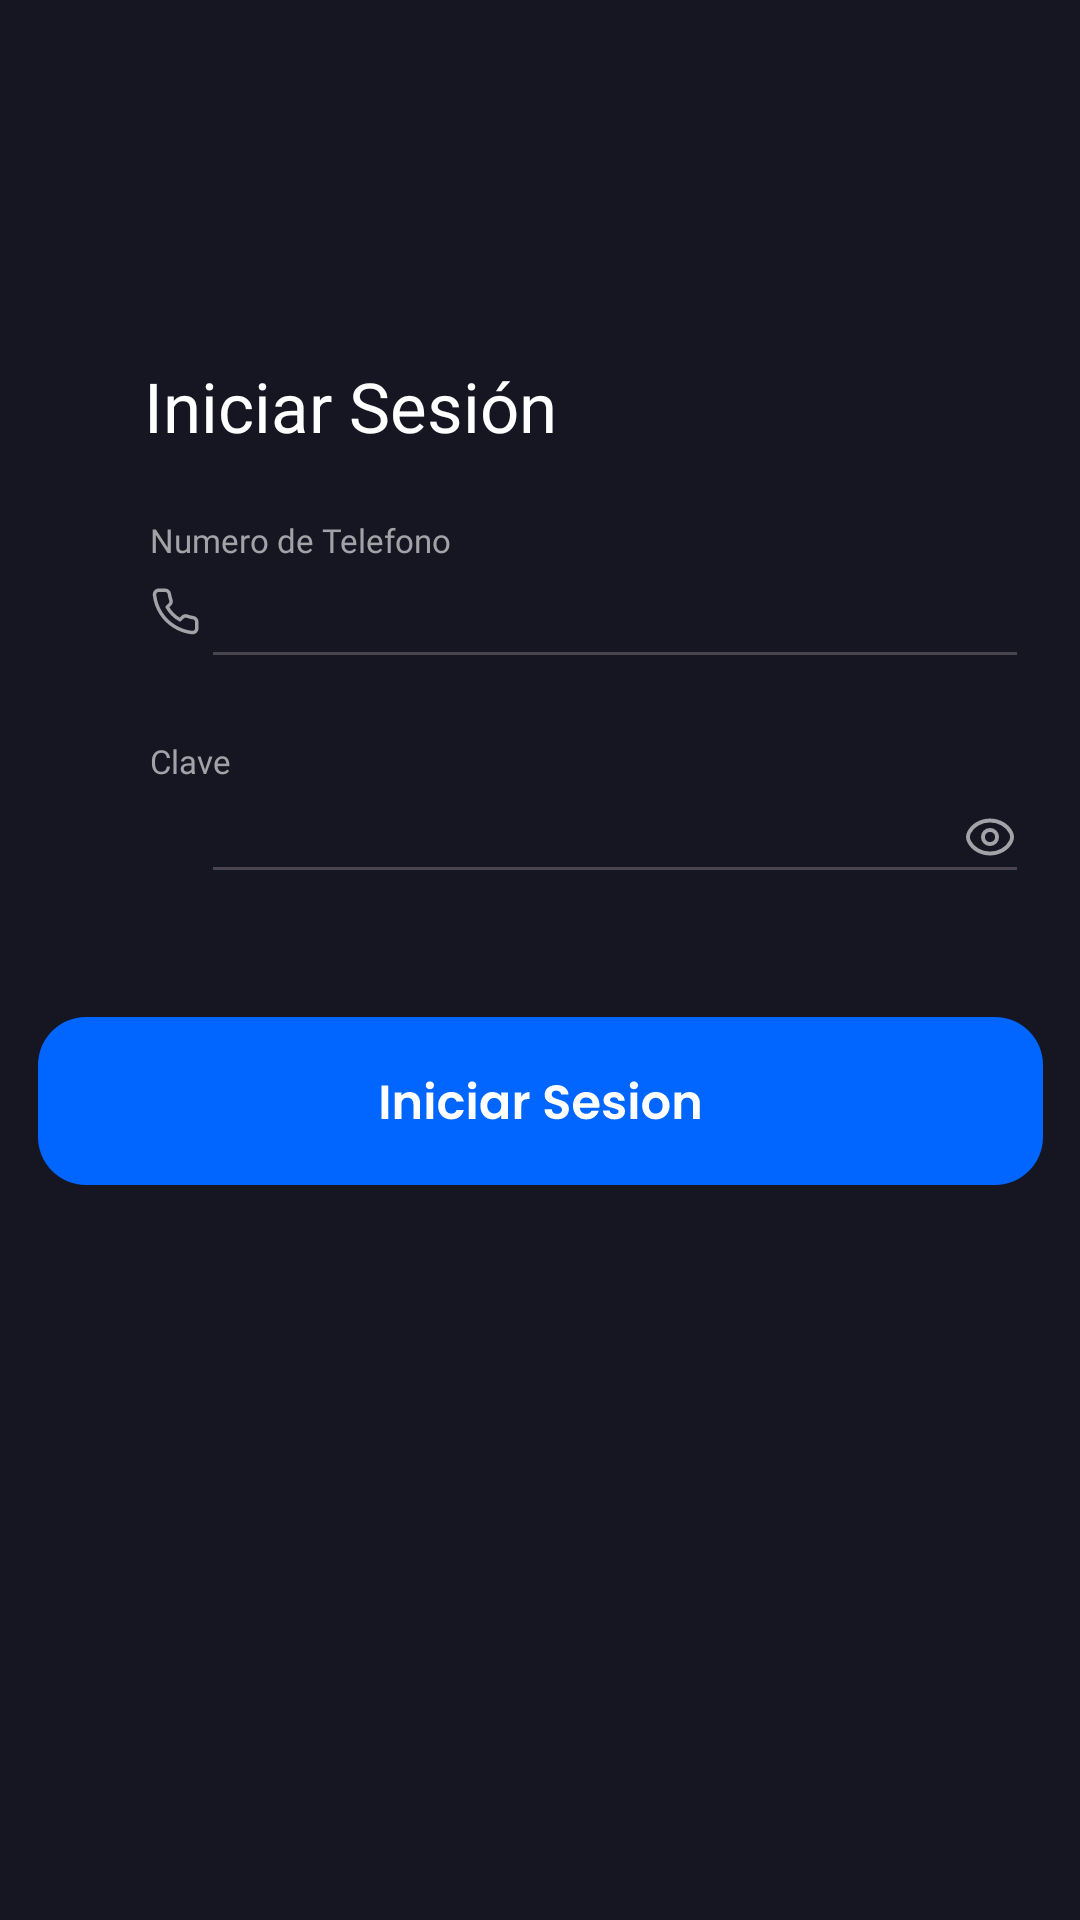

Icon bounding boxes for this 1080×1920 phone screenshot, format (x1, y1, x2, y2):
ver contrasena: (966, 818, 1014, 856)
